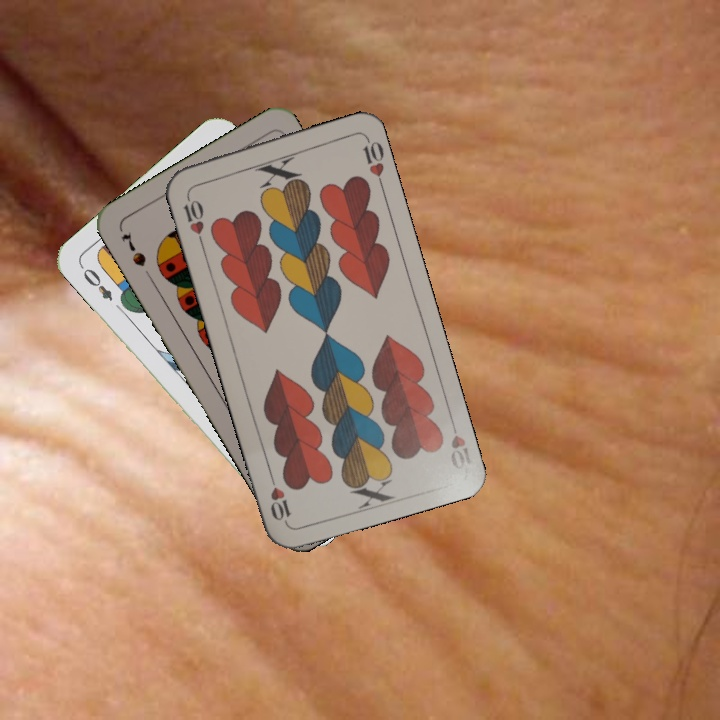EO: (76, 261, 116, 304)
H10: (446, 413, 474, 472), (179, 189, 207, 247)
S7: (117, 227, 149, 269)
